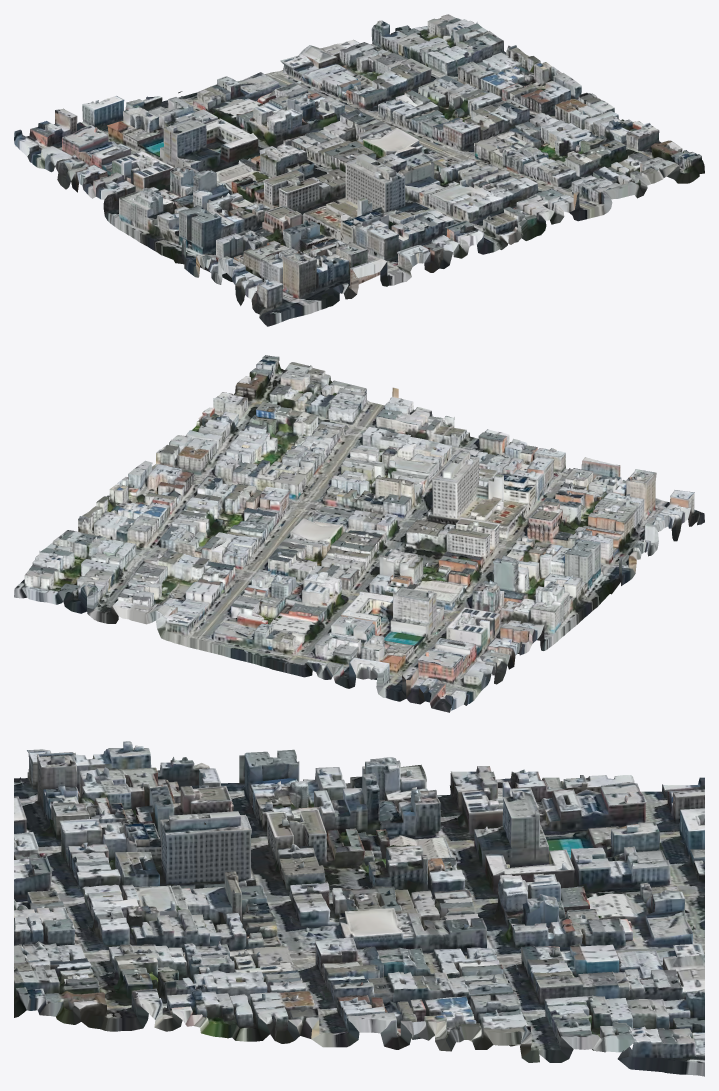
File: z16-10482-25327-h0-yup-uvflip-v3-world.glb
3 renders of one model, top to bottom at view 1: azimuth 30°, elevation 25°; view 2: azimuth 150°, elevation 25°; view 3: azimuth 270°, elevation 25°, orthographic. The views are drawn at different scales.
Size of the model in its own units: 484 by 85.12 by 485.
Materials: 1 (1 with a texture image).
